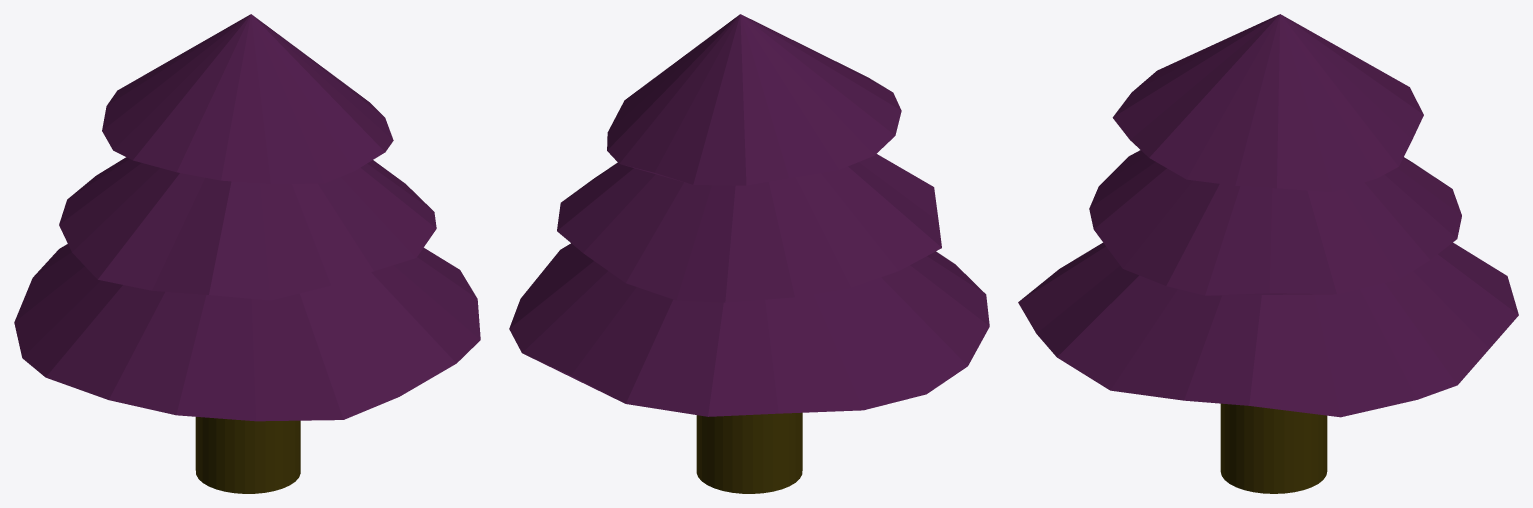
Rendered from pinkTree 1.fbx.
3 renders of one model, left to right at view 1: azimuth 30°, elevation 25°; view 2: azimuth 150°, elevation 25°; view 3: azimuth 270°, elevation 25°, orthographic.
Parts seen in each view (by area): view 1: Cone; view 2: Cone; view 3: Cone.
Boxes of the visible parts, x1,y1,x2,y2 form: Cone: (14, 14, 480, 493); Cone: (509, 14, 989, 493); Cone: (1018, 14, 1518, 493).
Size of the model in its own units: 270 by 286 by 282.
